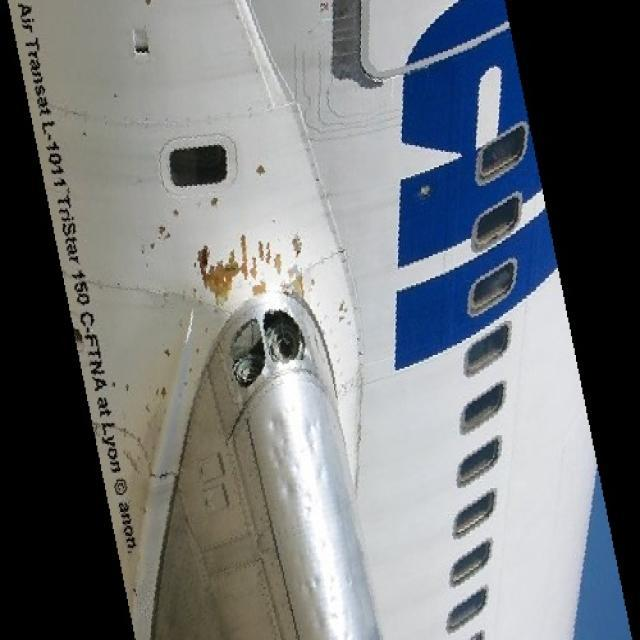dent: (270, 414, 370, 640)
